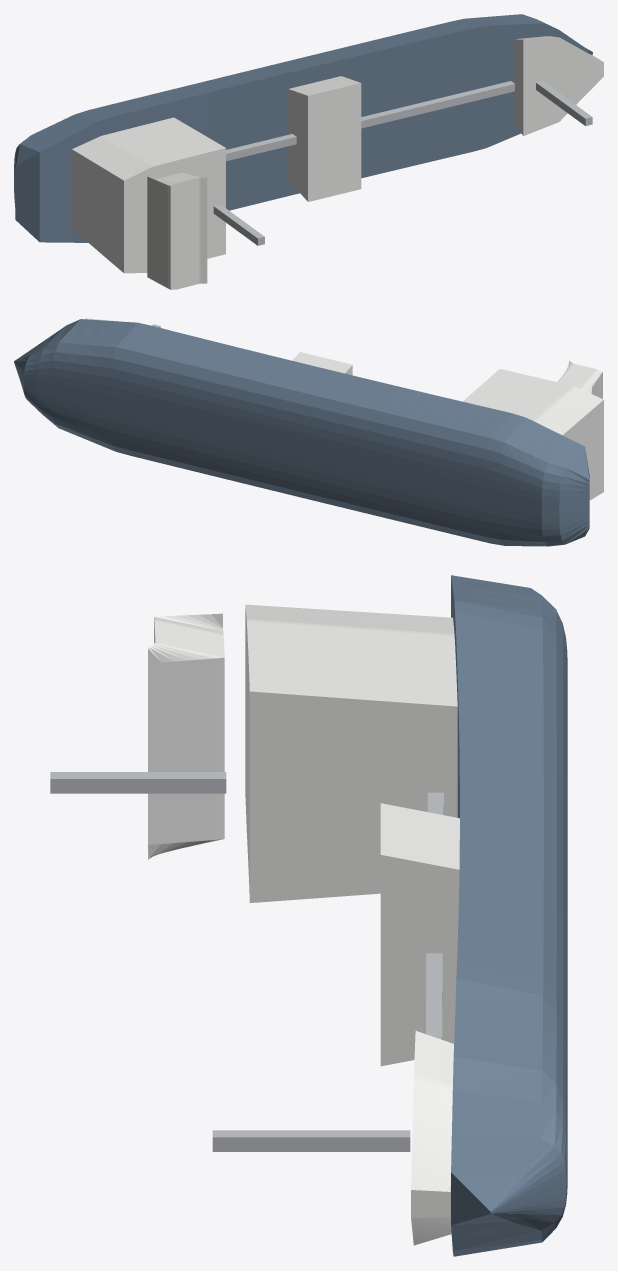
The model's file is loft-tanker-slender.glb.
3 views of the same model, one above another, from view 1: azimuth 30°, elevation 25°; view 2: azimuth 150°, elevation 25°; view 3: azimuth 270°, elevation 25° (orthographic). The views are drawn at different scales.
Visible parts, largest first — view 1: loft-tanker-slender; view 2: loft-tanker-slender; view 3: loft-tanker-slender.
Boxes of the visible parts, x1,y1,x2,y2 form: loft-tanker-slender: (14,14,603,289); loft-tanker-slender: (14,318,603,546); loft-tanker-slender: (50,575,567,1256).
Size of the model in its own units: 1.96 by 0.4 by 0.763.
